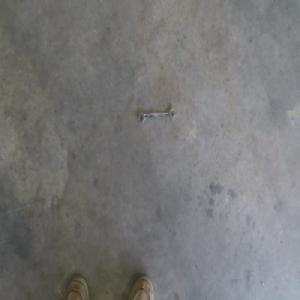Wrench: (136, 108, 176, 126)
